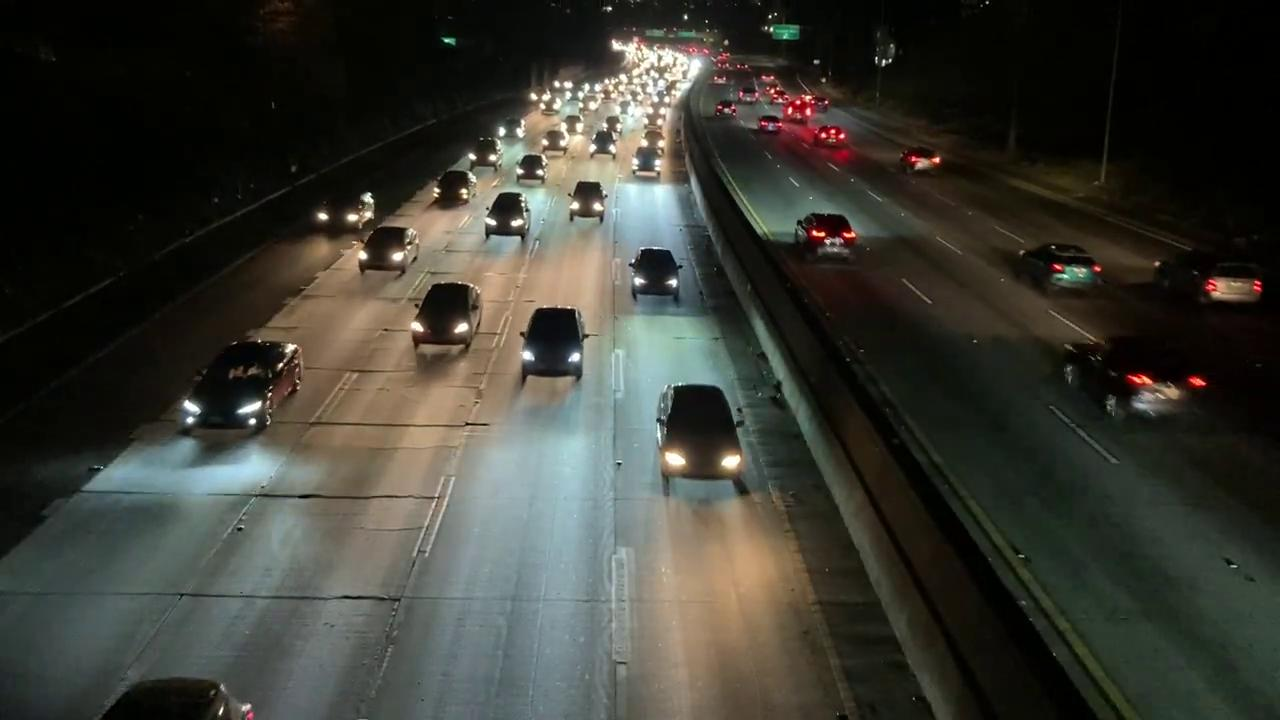car: (1056, 320, 1224, 432), (182, 338, 326, 442), (648, 372, 746, 500), (518, 302, 594, 392), (412, 281, 483, 351), (1011, 243, 1101, 291), (628, 239, 686, 308), (1185, 261, 1271, 304), (796, 213, 861, 257), (313, 185, 378, 229), (359, 228, 421, 274), (474, 194, 531, 238), (571, 174, 611, 223), (465, 133, 510, 171), (624, 143, 663, 178), (435, 170, 479, 201), (513, 154, 551, 186), (896, 147, 941, 174), (588, 129, 618, 158), (537, 131, 572, 155), (812, 123, 848, 146), (757, 112, 782, 137), (714, 99, 736, 118)
